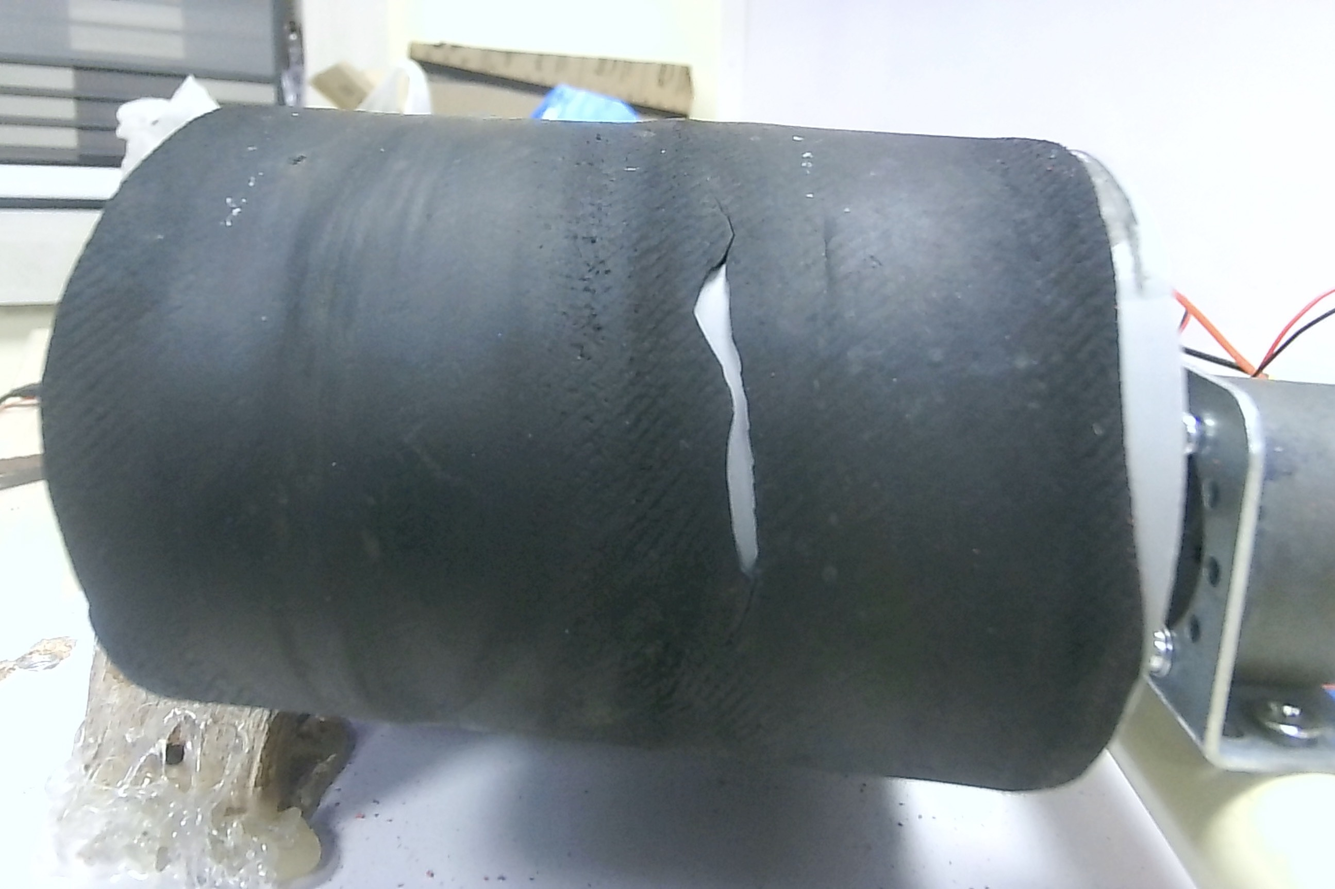tear: (676, 213, 785, 582)
